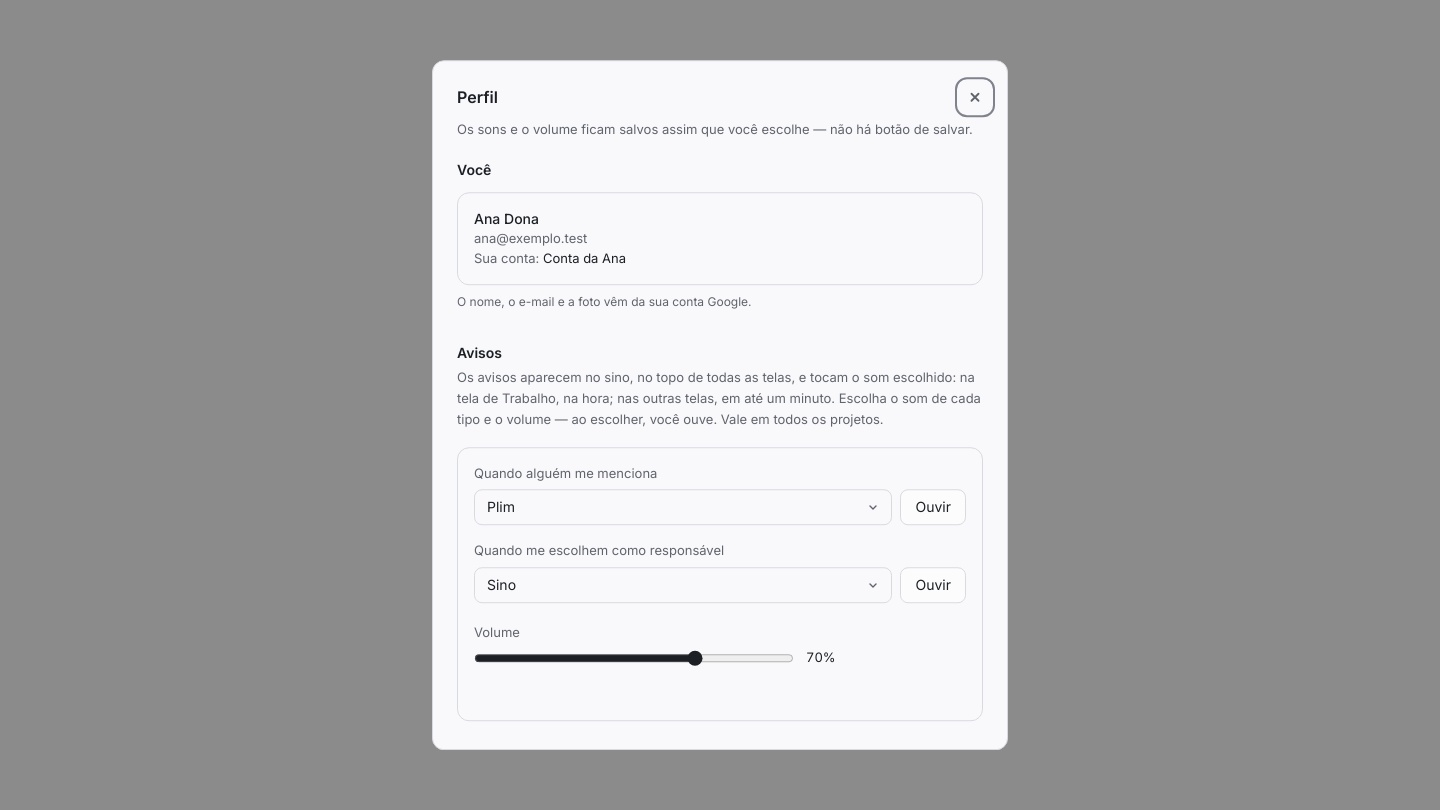
Test case: o Perfil › volume zero e "Mudo", e nao deixa ouvir
Set the slider labelled "Volume" to "0" at (482, 658), box [474,650,794,666]
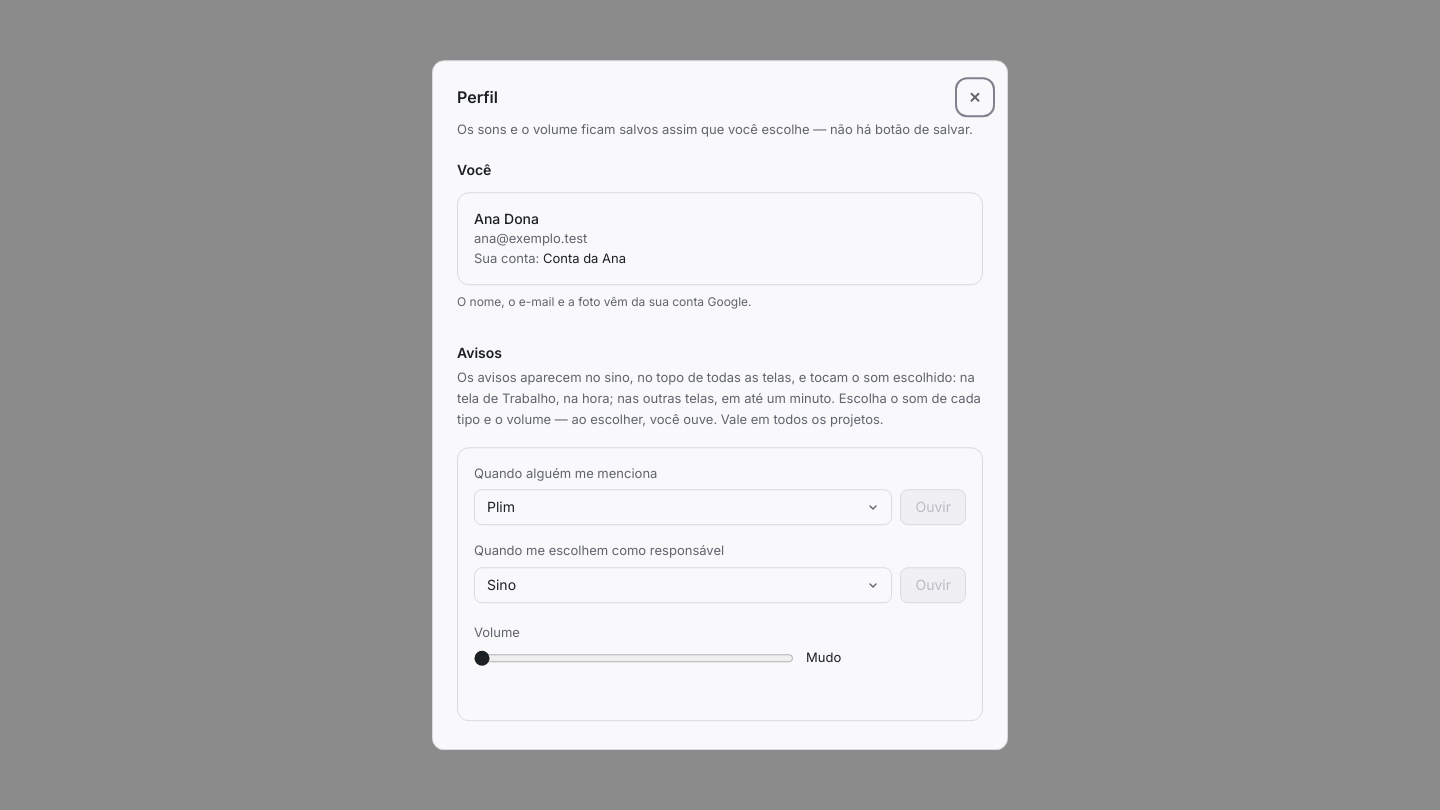
Expected: the text "Mudo" is shown, [806,649,841,665]
Expected: the button with aria-label "Ouvir o som: quando alguém me menciona" is disabled, [900,489,966,525]
